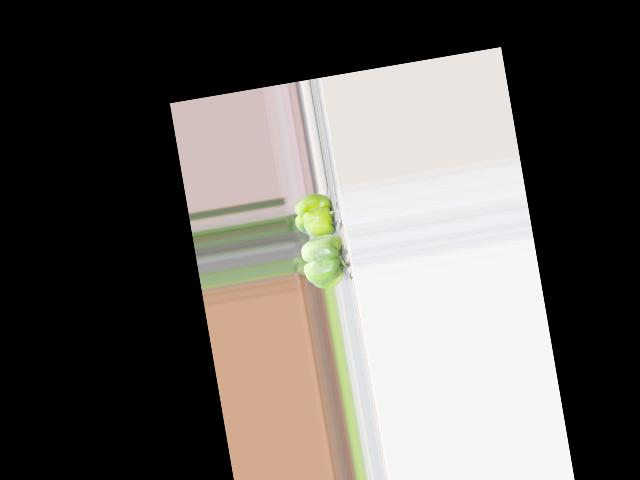bell_pepper: (289, 189, 340, 241)
